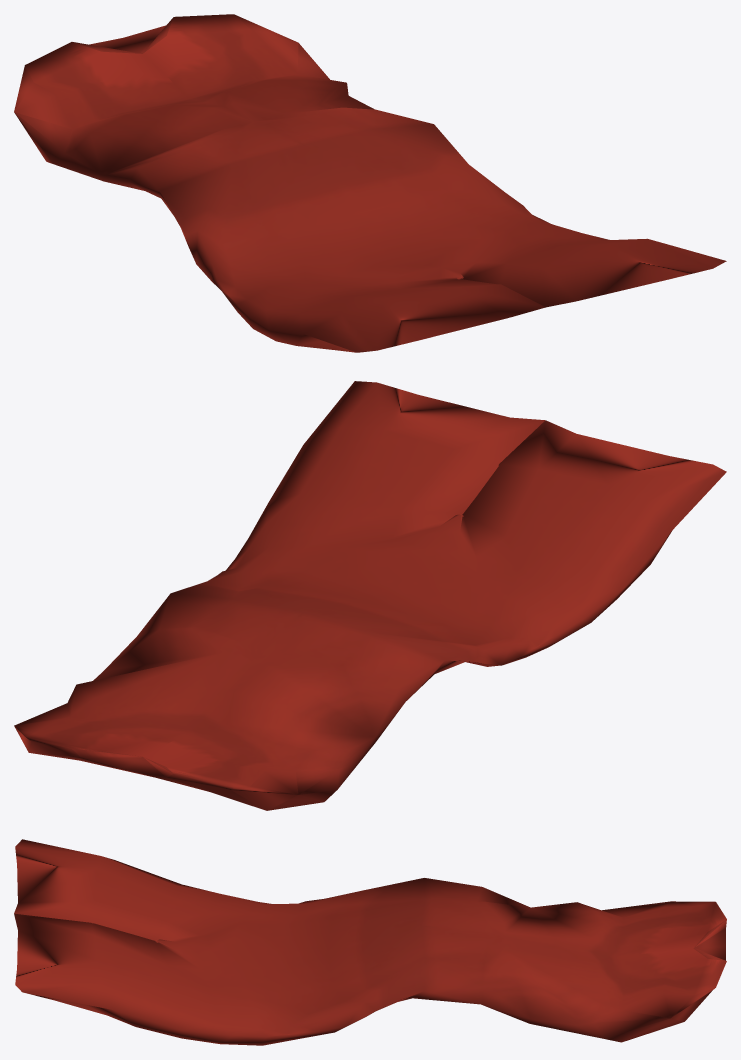
The model's file is KncrCape_Ground.fbx.
The picture shows the model from 3 angles, top to bottom: view 1: azimuth 30°, elevation 25°; view 2: azimuth 150°, elevation 25°; view 3: azimuth 270°, elevation 25°; orthographic projection. The views are drawn at different scales.
Visible parts, largest first — view 1: Kate_Arar.001; view 2: Kate_Arar.001; view 3: Kate_Arar.001.
Part boxes in pixels (x1,y1,x2,y2): Kate_Arar.001: [14, 14, 726, 352]; Kate_Arar.001: [14, 381, 726, 810]; Kate_Arar.001: [14, 839, 726, 1045].
Bounding box in the file's own units: 0.4502 × 0.0575 × 0.2287.
